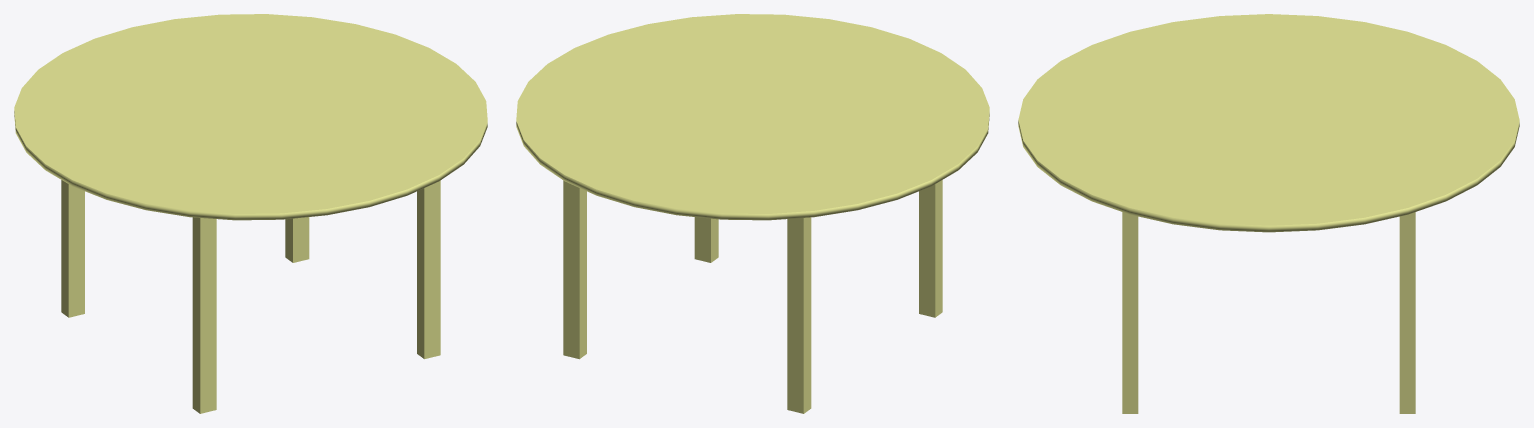
File: MESA REDONDA.fbx
The picture shows the model from 3 angles, left to right: view 1: azimuth 30°, elevation 25°; view 2: azimuth 150°, elevation 25°; view 3: azimuth 270°, elevation 25°; orthographic projection. The views are drawn at different scales.
Parts seen in each view (by area): view 1: MESA REDONDA; view 2: MESA REDONDA; view 3: MESA REDONDA.
Part boxes in pixels (x1=…): MESA REDONDA: x1=14, y1=14, x2=487, y2=413; MESA REDONDA: x1=516, y1=14, x2=989, y2=413; MESA REDONDA: x1=1018, y1=14, x2=1519, y2=413.
Size of the model in its own units: 137 by 70 by 137.
